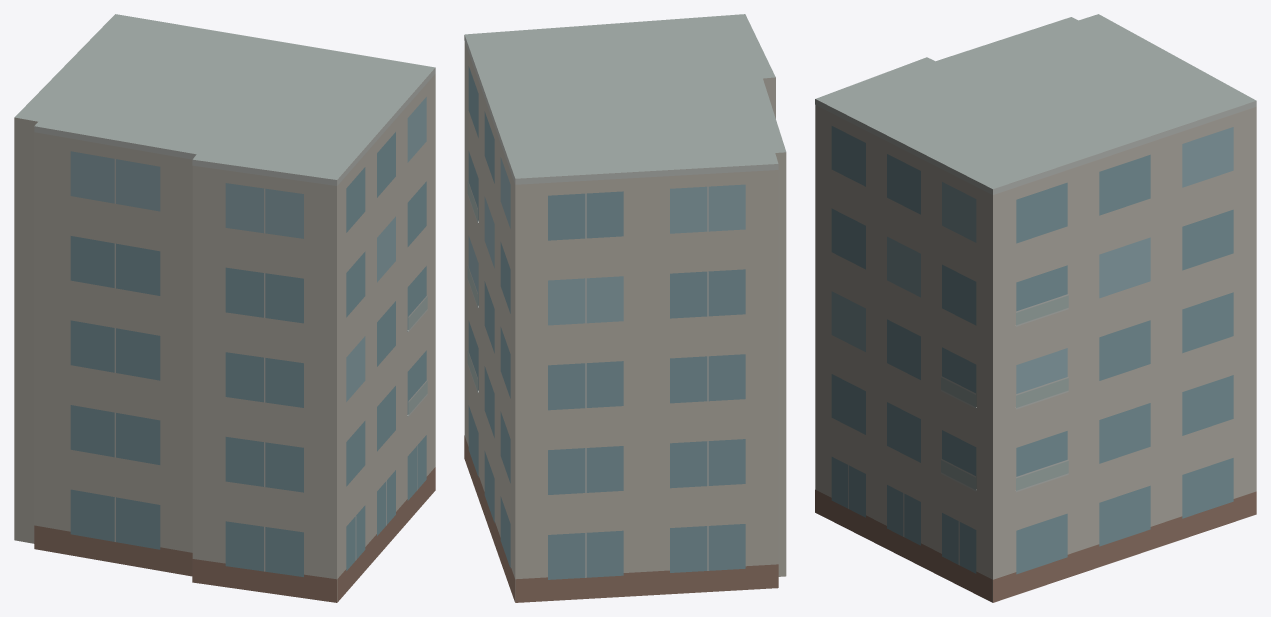
Rendered from survey-upis-32858225.glb.
The picture shows the model from 3 angles, left to right: view 1: azimuth 30°, elevation 25°; view 2: azimuth 150°, elevation 25°; view 3: azimuth 270°, elevation 25°; orthographic projection. The views are drawn at different scales.
Parts seen in each view (by area): view 1: survey-upis-32858225.tmp; view 2: survey-upis-32858225.tmp; view 3: survey-upis-32858225.tmp.
Part boxes in pixels (x1=…): survey-upis-32858225.tmp: x1=14, y1=14, x2=435, y2=602; survey-upis-32858225.tmp: x1=464, y1=14, x2=786, y2=602; survey-upis-32858225.tmp: x1=815, y1=14, x2=1256, y2=602.
Size of the model in its own units: 15.5 by 17.05 by 16.5.
